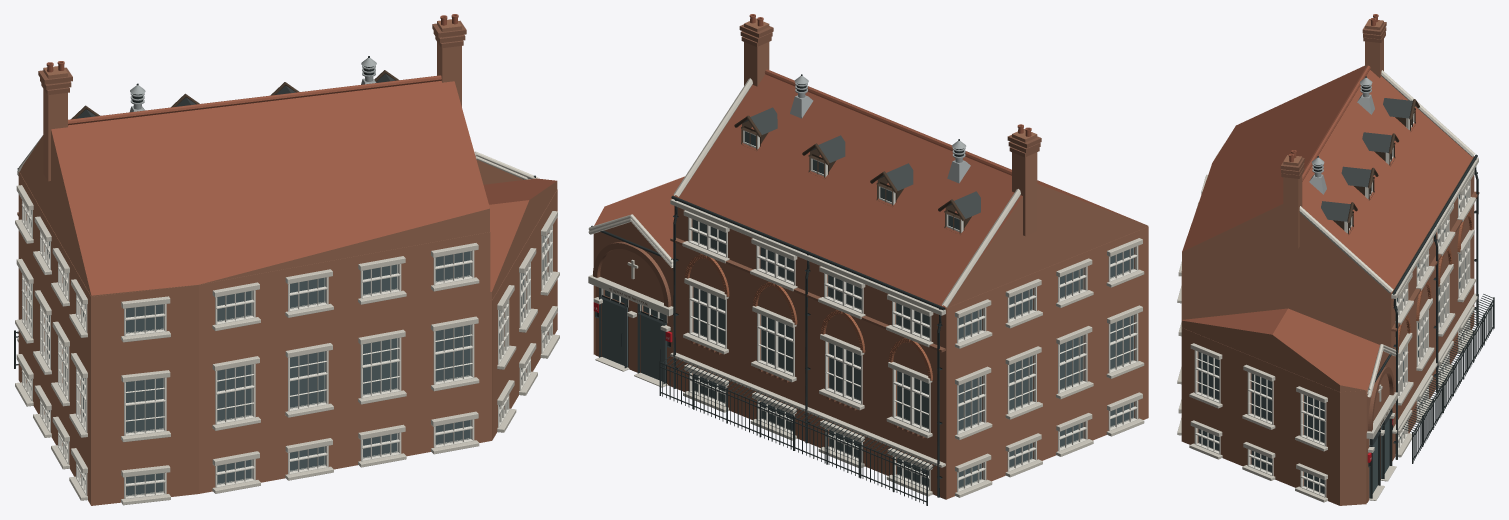
Rendered from par-exterior-371c4a130038.glb.
The picture shows the model from 3 angles, left to right: view 1: azimuth 30°, elevation 25°; view 2: azimuth 150°, elevation 25°; view 3: azimuth 270°, elevation 25°; orthographic projection. The views are drawn at different scales.
Visible parts, largest first — view 1: PAR.001; view 2: PAR.001; view 3: PAR.001.
Part boxes in pixels (box(x1,y1,x2,y2)): PAR.001: box(14, 14, 559, 505); PAR.001: box(588, 14, 1148, 505); PAR.001: box(1177, 14, 1494, 505).
Size of the model in its own units: 23.48 by 15.54 by 14.92.
